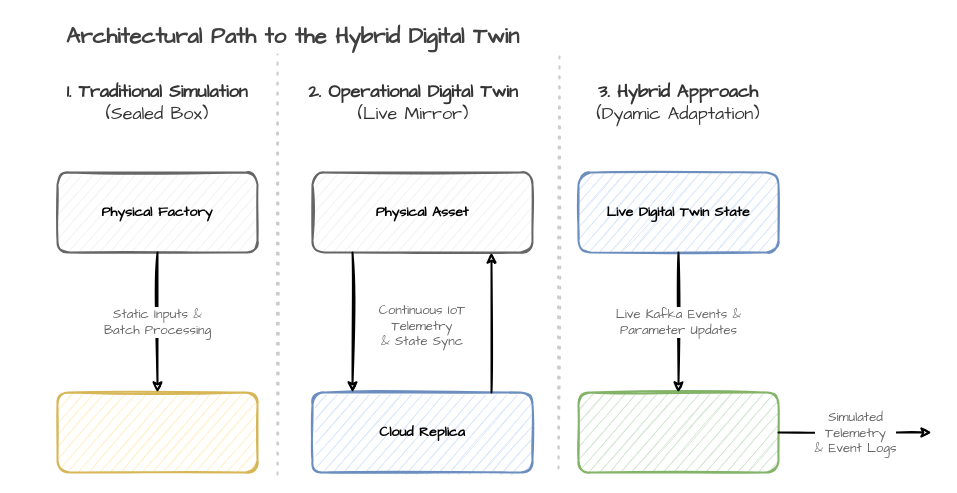
This 957x493 diagram has some shape labels left out. The centre of each missing label's shape, as x and y in pixels:
"Simulation Engine ( dynamic-des )" goes at (x=678, y=432).
"Simulation Model" goes at (x=157, y=432).
